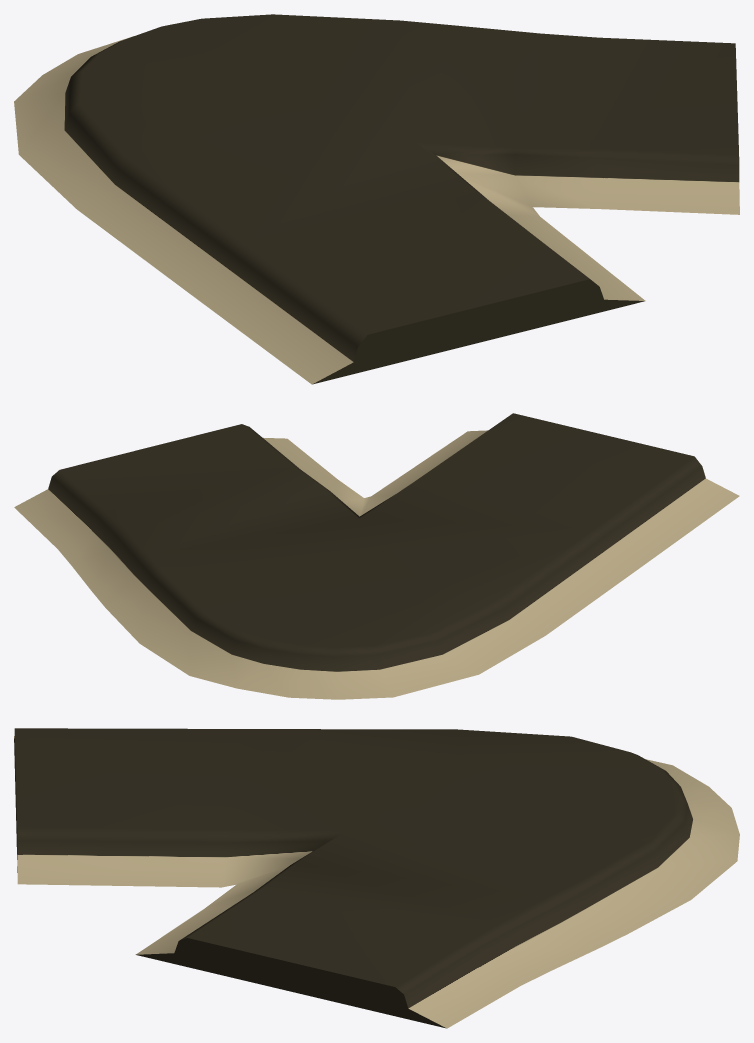
File: Road_Corner.fbx
3 renders of one model, top to bottom at view 1: azimuth 30°, elevation 25°; view 2: azimuth 150°, elevation 25°; view 3: azimuth 270°, elevation 25°, orthographic. The views are drawn at different scales.
Visible parts, largest first — view 1: Road_Corner; view 2: Road_Corner; view 3: Road_Corner.
Part boxes in pixels (x1,y1,x2,y2): Road_Corner: (14,14,739,384); Road_Corner: (14,413,739,699); Road_Corner: (14,728,739,1028).
Bounding box in the file's own units: 0.5913 × 0.6206 × 0.0317.
